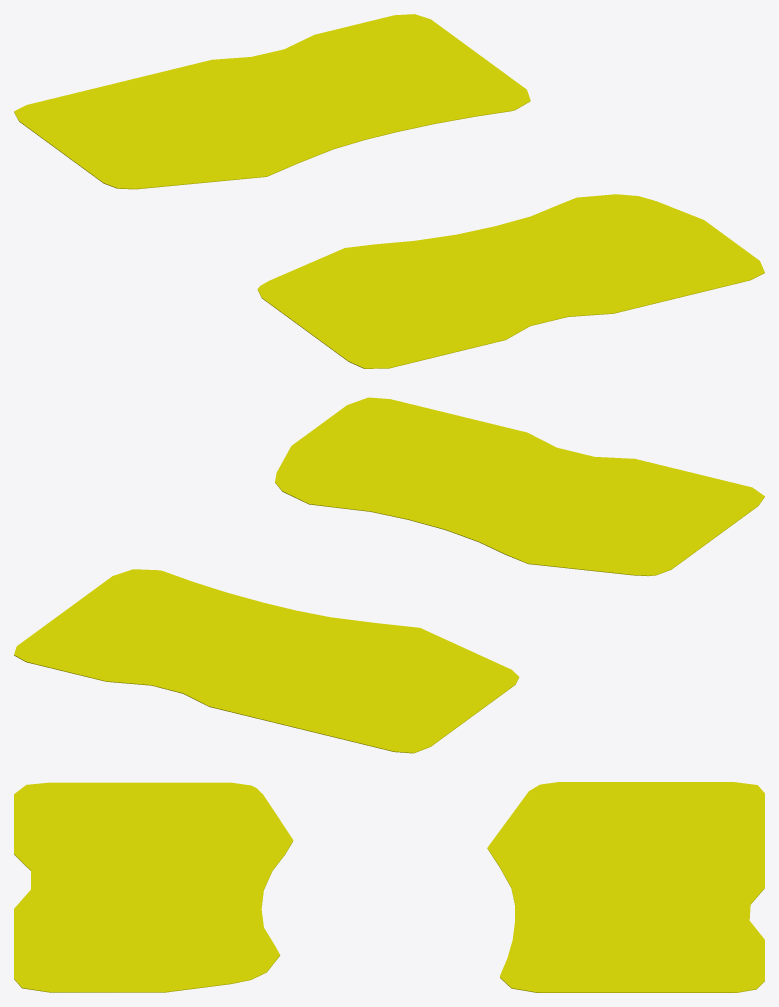
The model's file is sm_hana_building_15f_ceiling.glb.
3 views of the same model, one above another, from view 1: azimuth 30°, elevation 25°; view 2: azimuth 150°, elevation 25°; view 3: azimuth 270°, elevation 25° (orthographic). The views are drawn at different scales.
Visible parts, largest first — view 1: sm_hana_building_15f_ceiling; view 2: sm_hana_building_15f_ceiling; view 3: sm_hana_building_15f_ceiling.
Boxes of the visible parts, <box> form: sm_hana_building_15f_ceiling: <box>14,14,764,368</box>; sm_hana_building_15f_ceiling: <box>14,397,764,753</box>; sm_hana_building_15f_ceiling: <box>14,782,764,992</box>.
Bounding box in the file's own units: 66.41 × 0.0979 × 100.
Materials: 1 (1 with a texture image).
